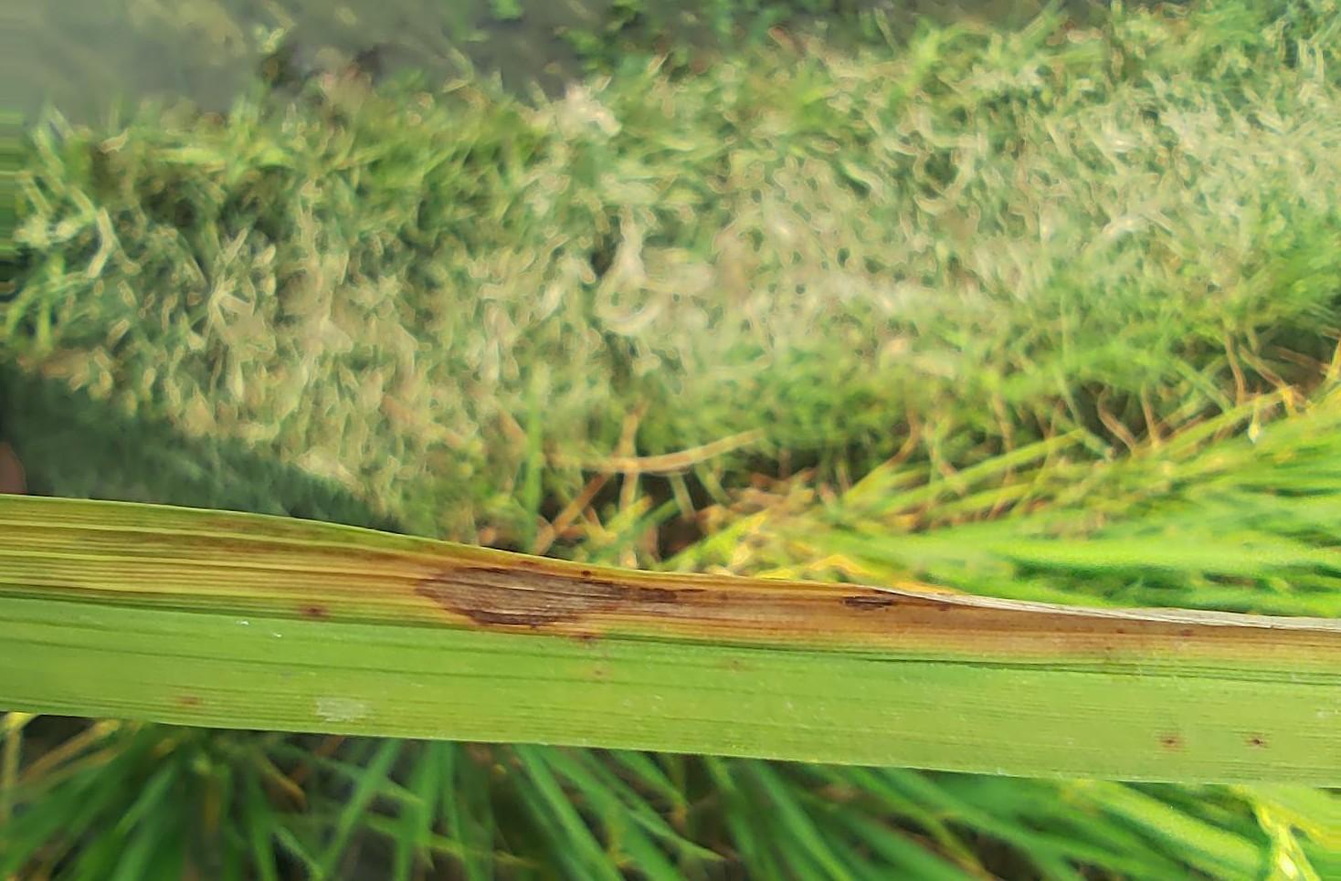LEAF: (0, 496, 1340, 784)
LEAF BLAST: (417, 566, 705, 627), (842, 592, 895, 607)
